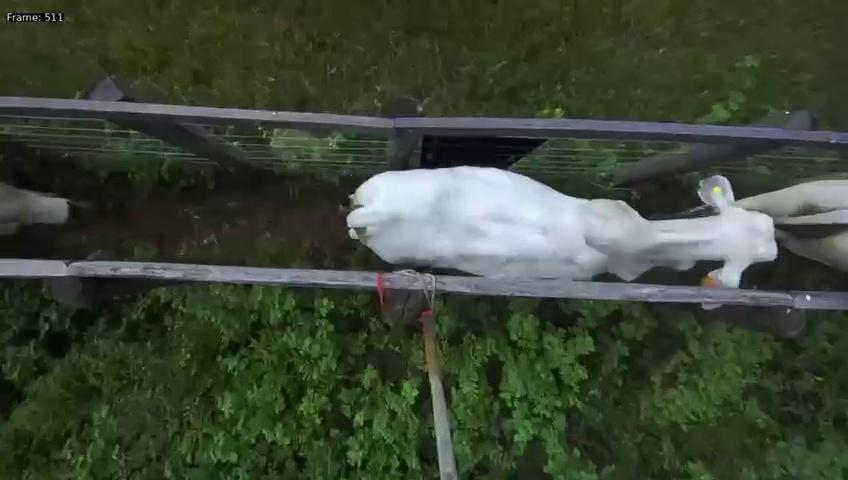cattle: (342, 157, 804, 291)
